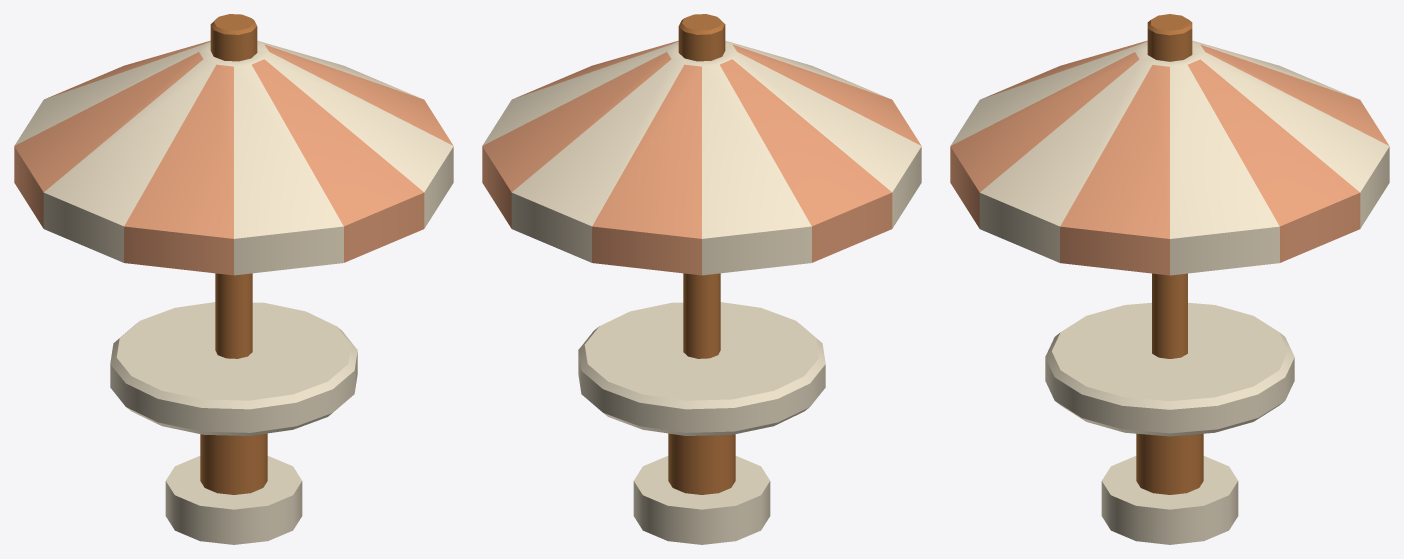
Rendered from cafe-table-parasol.glb.
3 views of the same model, side by side, from view 1: azimuth 30°, elevation 25°; view 2: azimuth 150°, elevation 25°; view 3: azimuth 270°, elevation 25° (orthographic).
Parts seen in each view (by area): view 1: cafe-table-parasol; view 2: cafe-table-parasol; view 3: cafe-table-parasol.
Boxes of the visible parts, left/top/right/bottom form: cafe-table-parasol: left=14, top=14, right=453, bottom=544; cafe-table-parasol: left=482, top=14, right=921, bottom=544; cafe-table-parasol: left=950, top=14, right=1389, bottom=544.
Bounding box in the file's own units: 3.38 × 4.19 × 3.38.
2 materials, 2 textured.
